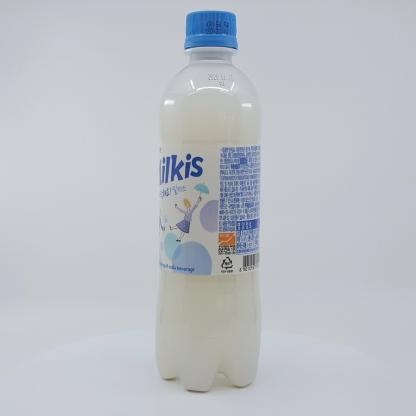-----500ML: (155, 10, 262, 391)
